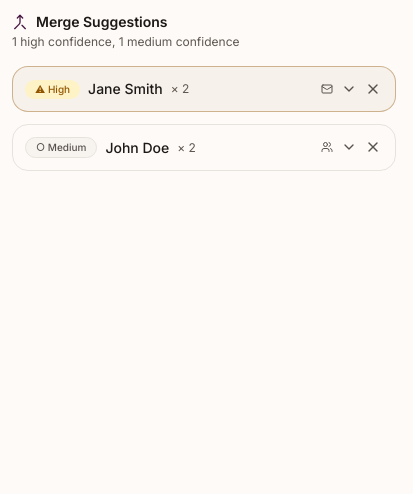
Test: GuestMergePanel › shows merge success status after successful merge
Check: the text "Jane Smith" is shown, box x1=88 y1=79 x2=163 y2=99
Click the button named "Expand cluster details" in the row of "Jane Smith". click: [349, 89]
box: x1=339 y1=79 x2=359 y2=99
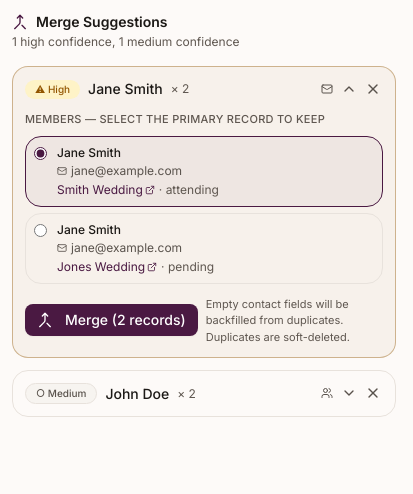
Check: the button with aria-label "Merge 2 records" is shown
Click the button with aria-label "Merge 2 records". click: [111, 320]
box: x1=25 y1=304 x2=198 y2=336
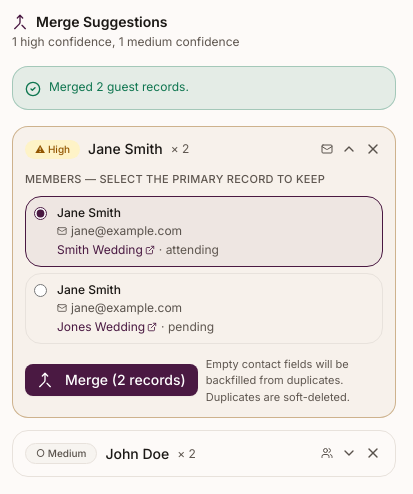
Check: the text "Merged 2 guest records." is shown, box x1=12 y1=66 x2=396 y2=110
